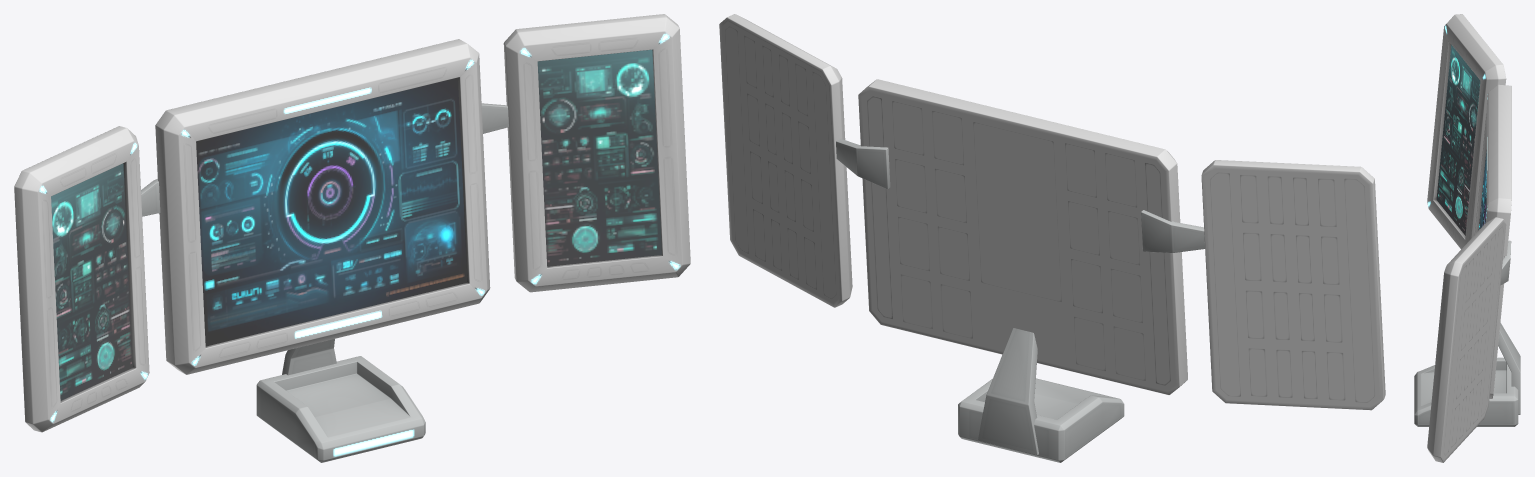
Rendered from Display01_3.FBX.
3 renders of one model, left to right at view 1: azimuth 30°, elevation 25°; view 2: azimuth 150°, elevation 25°; view 3: azimuth 270°, elevation 25°, orthographic. The views are drawn at different scales.
Visible parts, largest first — view 1: Display01_3; view 2: Display01_3; view 3: Display01_3.
Part boxes in pixels (x1,y1,x2,y2): Display01_3: (14, 14, 690, 462); Display01_3: (719, 14, 1385, 462); Display01_3: (1414, 14, 1520, 462).
Size of what is drawn, in the model's own units: 1.48 by 0.7205 by 0.2579.
